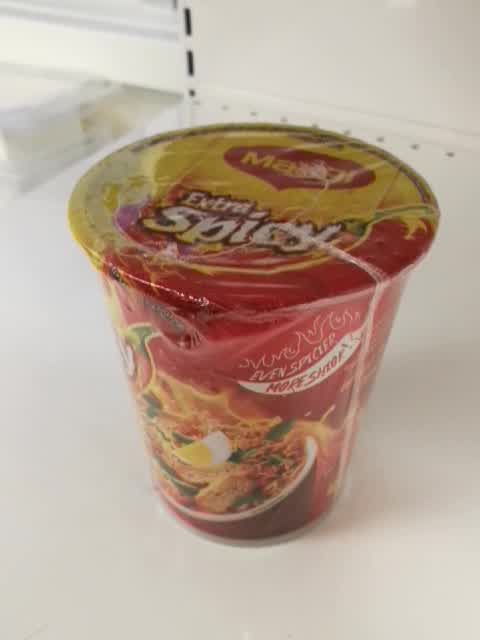maggi: (67, 120, 441, 550)
